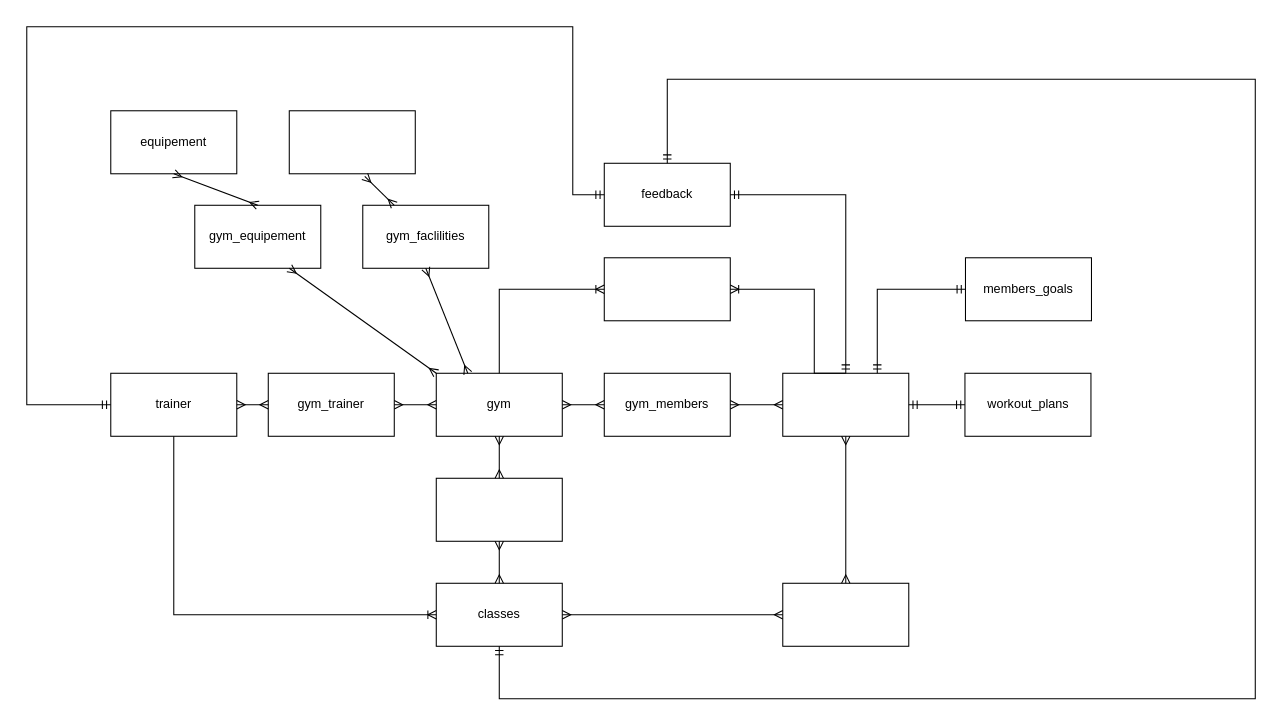
The diagram is 1283 pixels wide and 727 high, and some of its shapes have lost their labels. Each missing label, with the box of its shape:
faclilities: (288, 110, 415, 174)
gym_classes: (435, 477, 562, 541)
member: (782, 372, 909, 436)
member_classes: (782, 582, 909, 646)
supscription: (603, 257, 730, 321)
